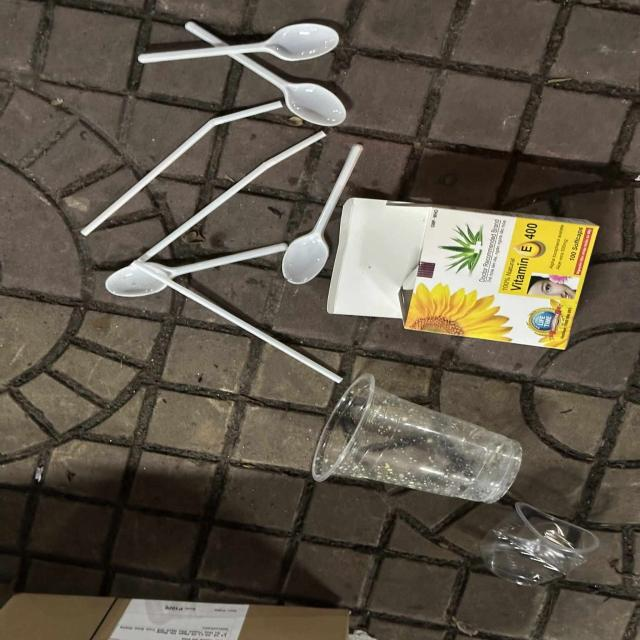cardboard box: (324, 196, 603, 352), (0, 591, 350, 640)
drinking straw: (78, 99, 285, 238), (129, 260, 345, 384), (137, 130, 329, 264)
plastic glass: (312, 372, 524, 506), (479, 501, 601, 589)
plastic utensil: (181, 19, 349, 128), (280, 142, 367, 287), (104, 242, 288, 299), (135, 21, 342, 66)
